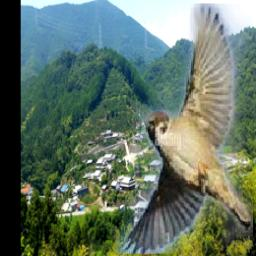Sparrow: (117, 5, 254, 255)
